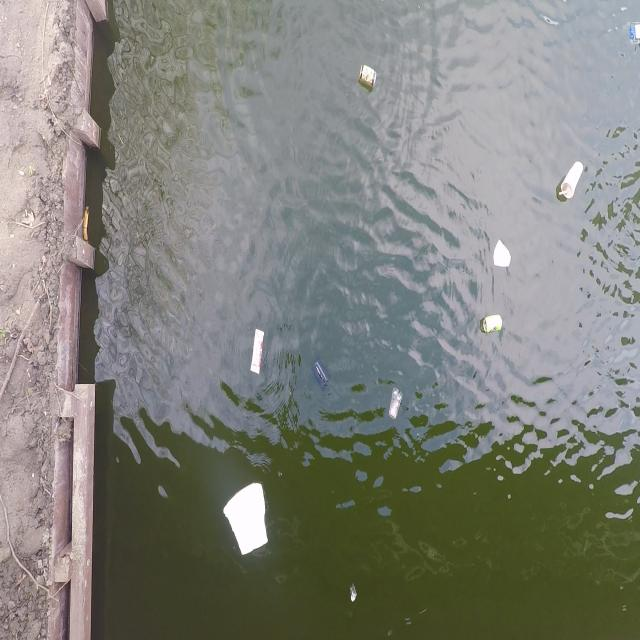Autre plastique: (220, 480, 274, 564)
Non plastique: (358, 61, 377, 91), (481, 312, 504, 333)
